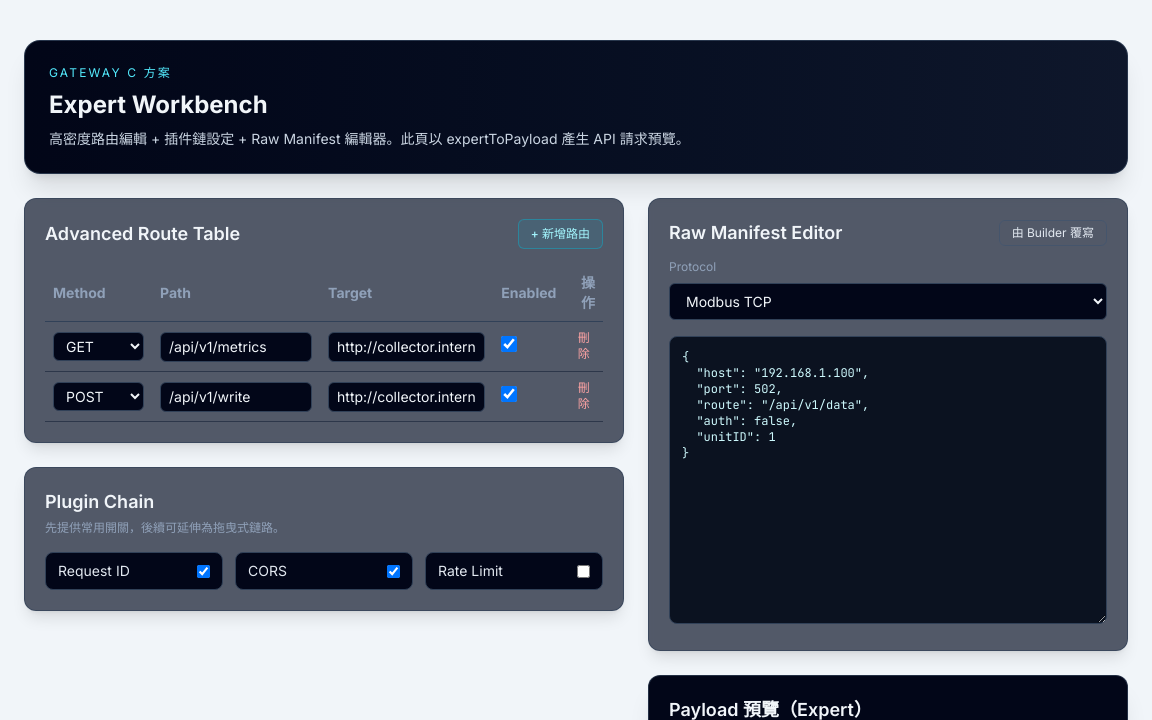
it: GatewayExpertWorkbenchPage › adds a route row when clicking add route
Click the button "+ 新增路由". click: click(560, 234)
box: [518,219,603,249]
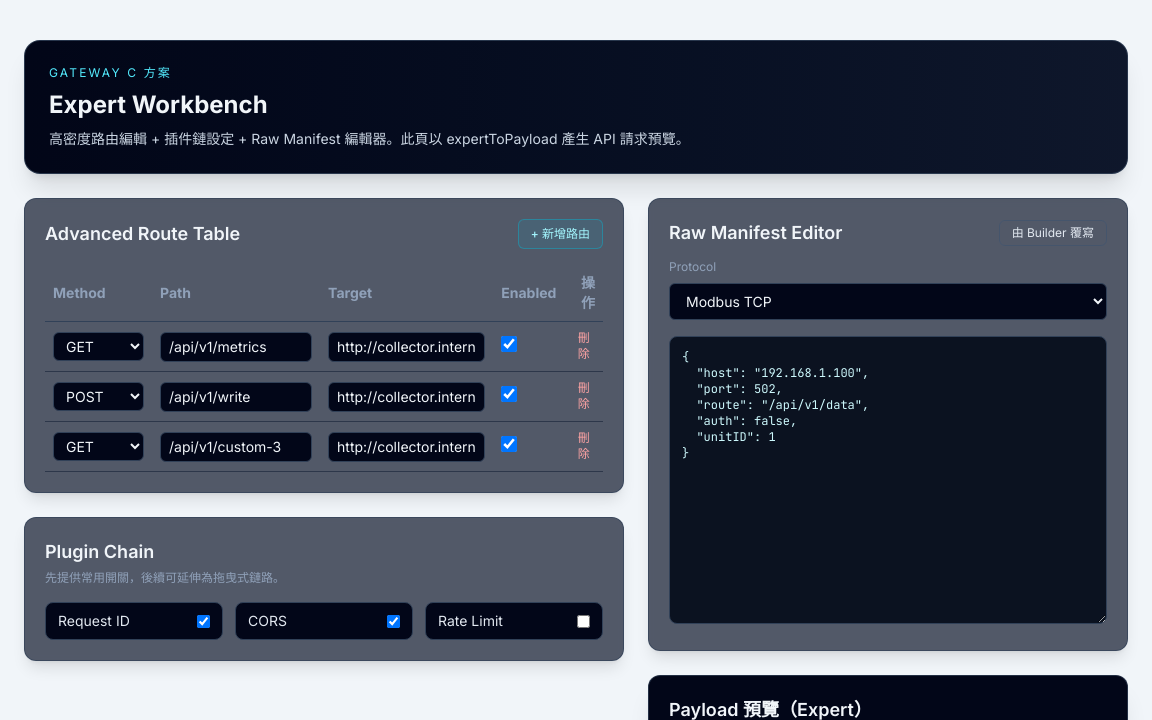
Expected: the number of buttons "刪除" is 3, [572,330,595,362]; [572,380,595,412]; [572,430,595,462]
